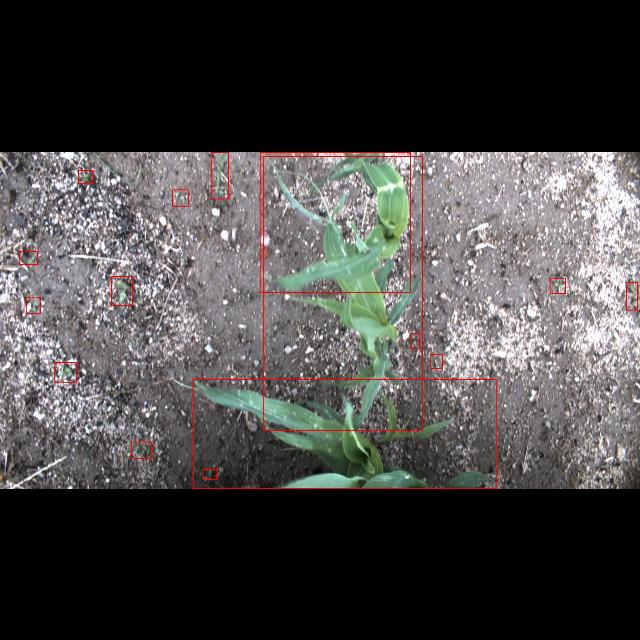crop: (264, 156, 422, 430), (193, 378, 497, 488), (260, 151, 410, 291)
weed: (212, 152, 228, 198), (111, 276, 132, 304), (55, 362, 77, 382), (626, 282, 638, 310), (132, 442, 152, 458), (172, 189, 188, 205), (19, 250, 37, 264), (26, 297, 40, 313), (550, 278, 566, 292), (78, 170, 94, 182), (430, 354, 442, 368), (202, 469, 218, 479), (410, 334, 420, 348)
